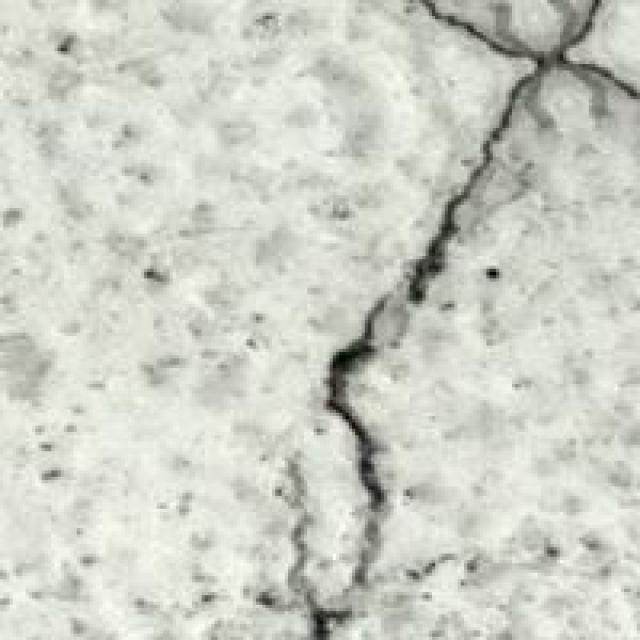crack: (243, 3, 637, 637)
